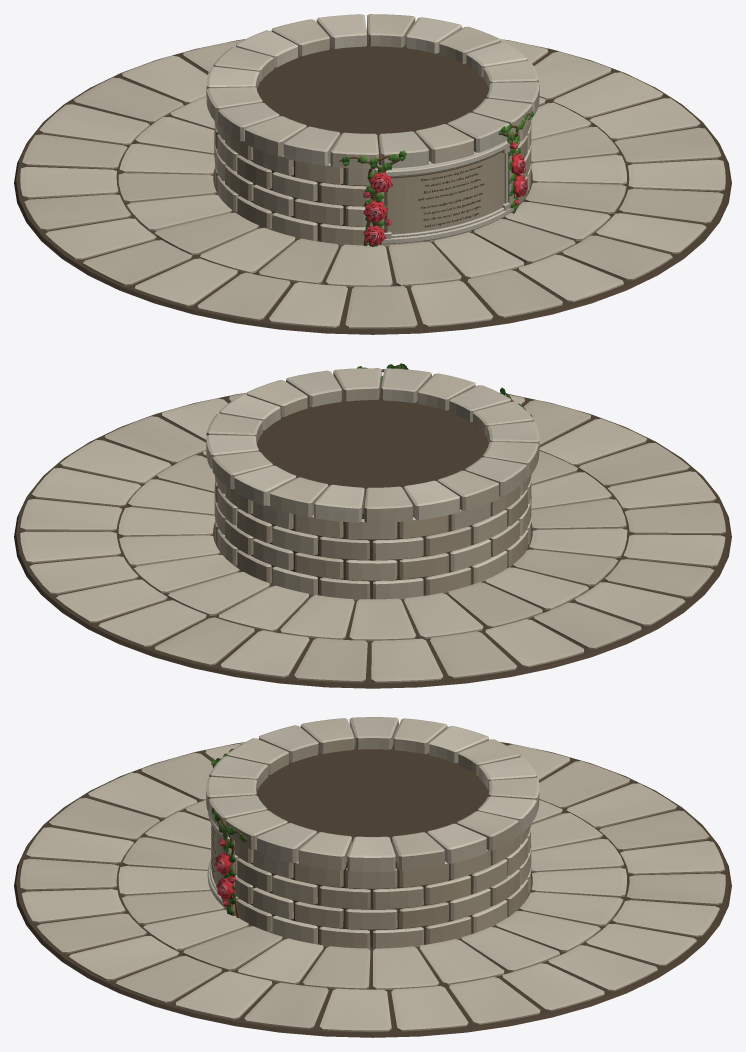
File: site1-well-exposed.glb
3 views of the same model, one above another, from view 1: azimuth 30°, elevation 25°; view 2: azimuth 150°, elevation 25°; view 3: azimuth 270°, elevation 25° (orthographic).
Parts seen in each view (by area): view 1: Monument_site1; view 2: Monument_site1; view 3: Monument_site1.
Boxes of the visible parts, x1,y1,x2,y2 form: Monument_site1: [14, 14, 731, 334]; Monument_site1: [14, 363, 731, 688]; Monument_site1: [14, 717, 731, 1037].
Size of the model in its own units: 7 by 1.11 by 7.
